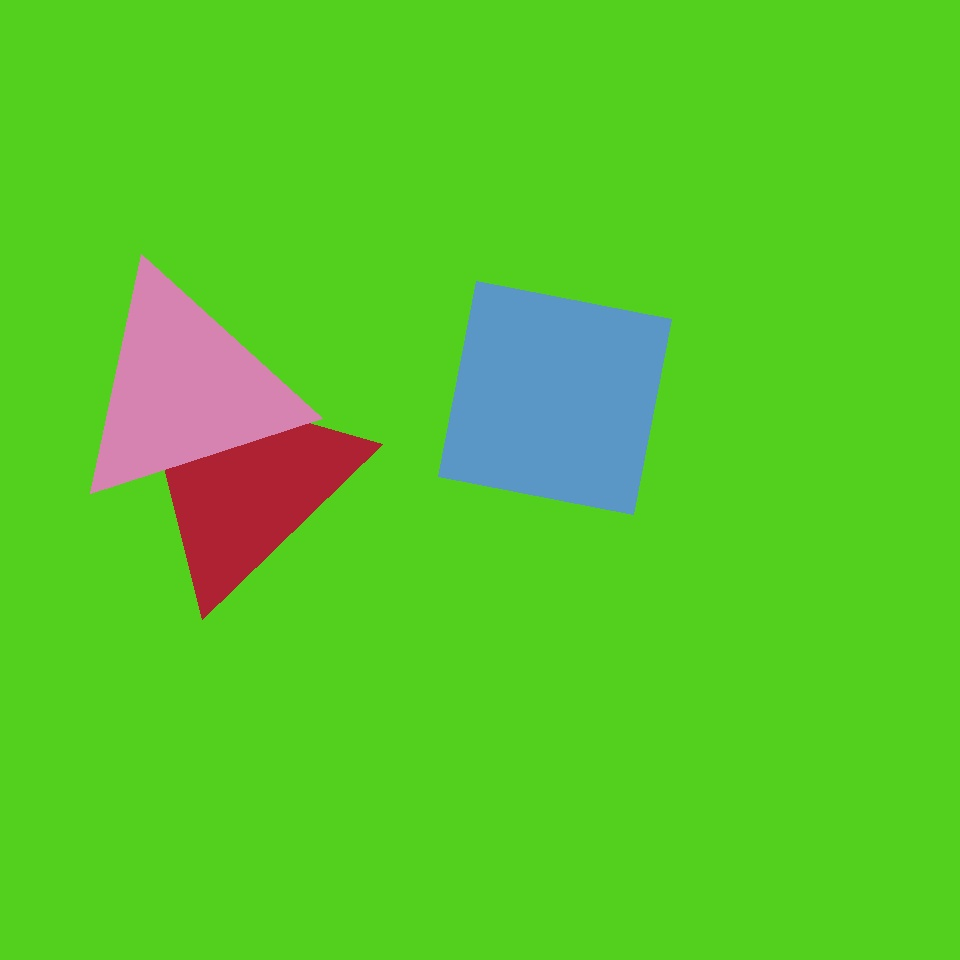circle: (122, 358, 362, 602), (69, 270, 301, 508)
square: (438, 282, 672, 515)
